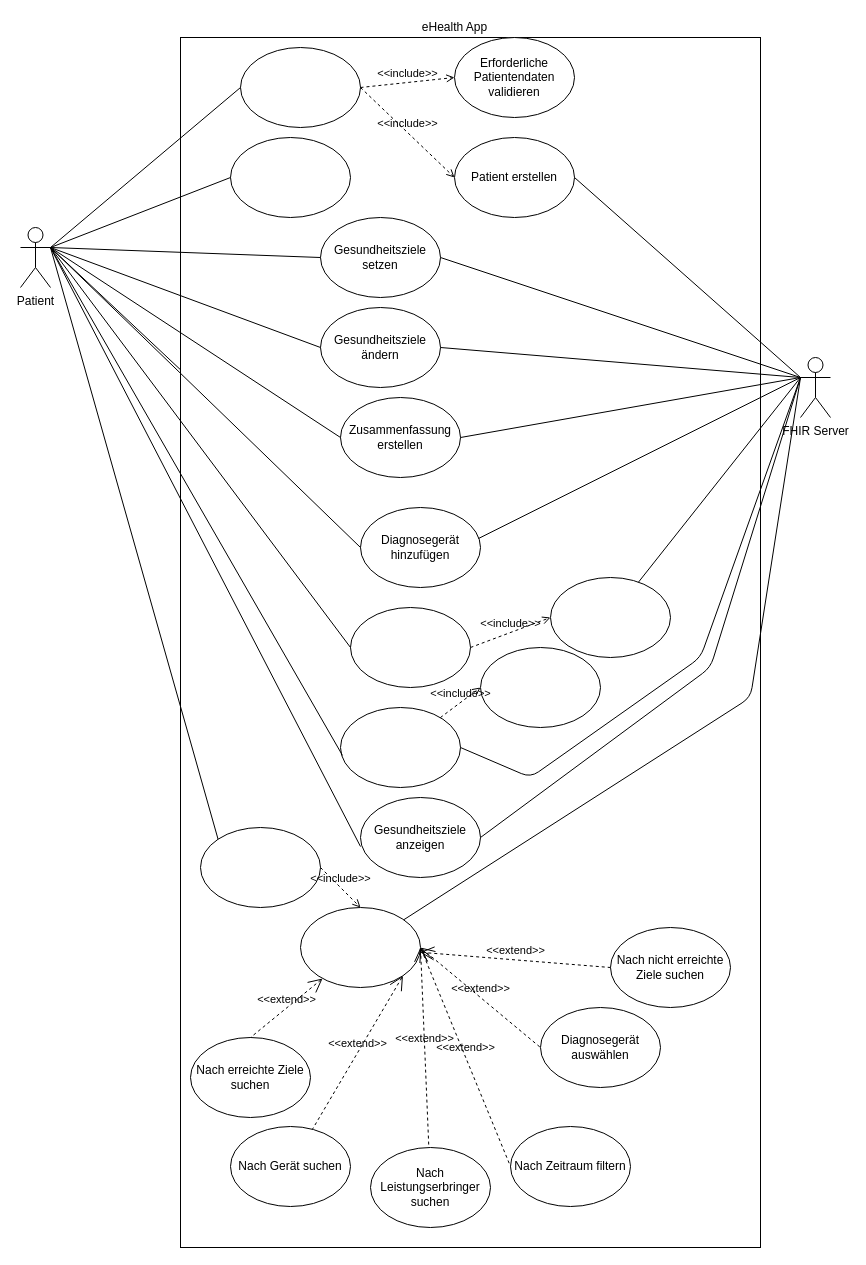
Some shapes in this 866 by 1265 pixel diagram are drawn without their labels. Here are the shapes that lost their labels. From the top down, the box of each, then its label:
(240, 46, 360, 128): Patientendaten eingeben
(230, 136, 350, 218): FHIR Server spezifizieren
(550, 576, 670, 658): Patientendaten abfragen
(350, 606, 470, 688): Patientendaten anzeigen
(480, 646, 600, 728): Gerät spezifisieren
(340, 706, 460, 788): Beobachtungen erfassen
(200, 826, 320, 908): Beobachtungen anzeigen
(300, 906, 420, 988): Beobachtungen suchen
